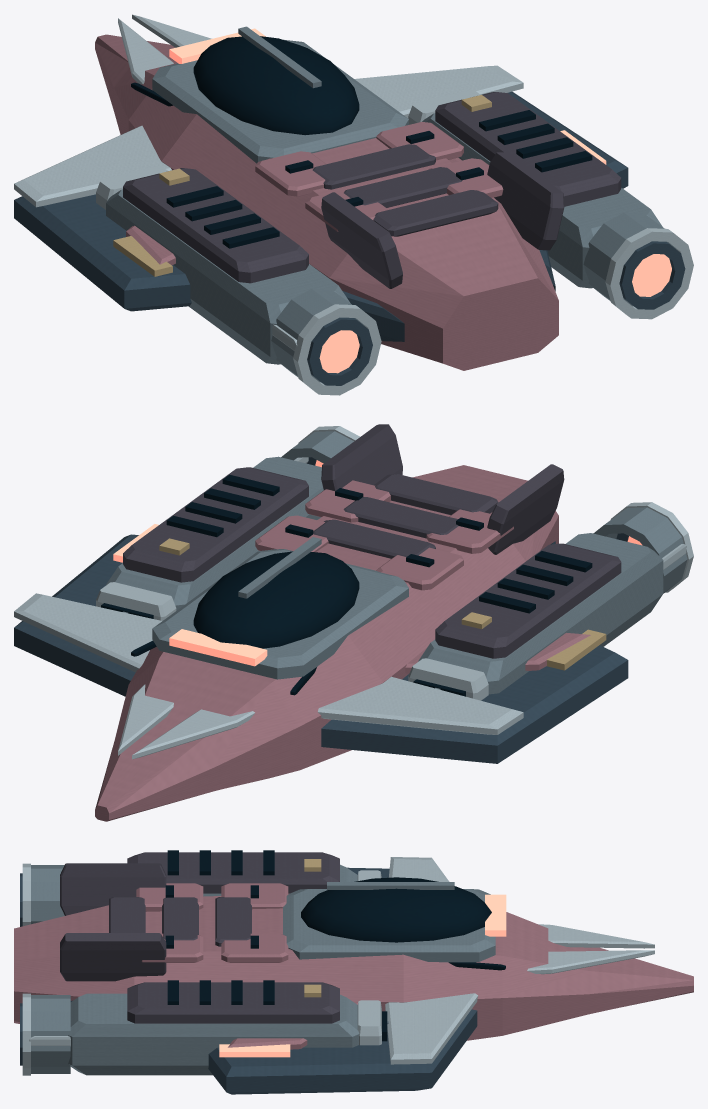
Rendered from scout.glb.
3 views of the same model, one above another, from view 1: azimuth 30°, elevation 25°; view 2: azimuth 150°, elevation 25°; view 3: azimuth 270°, elevation 25° (orthographic). The views are drawn at different scales.
Visible parts, largest first — view 1: _MeshInstance3D_301; view 2: _MeshInstance3D_301; view 3: _MeshInstance3D_301.
Part boxes in pixels (x1=…): _MeshInstance3D_301: x1=14, y1=14, x2=693, y2=395; _MeshInstance3D_301: x1=14, y1=424, x2=693, y2=821; _MeshInstance3D_301: x1=14, y1=850, x2=693, y2=1094.
Bounding box in the file's own units: 0.21 × 0.0646 × 0.288.
1 material, 1 textured.
